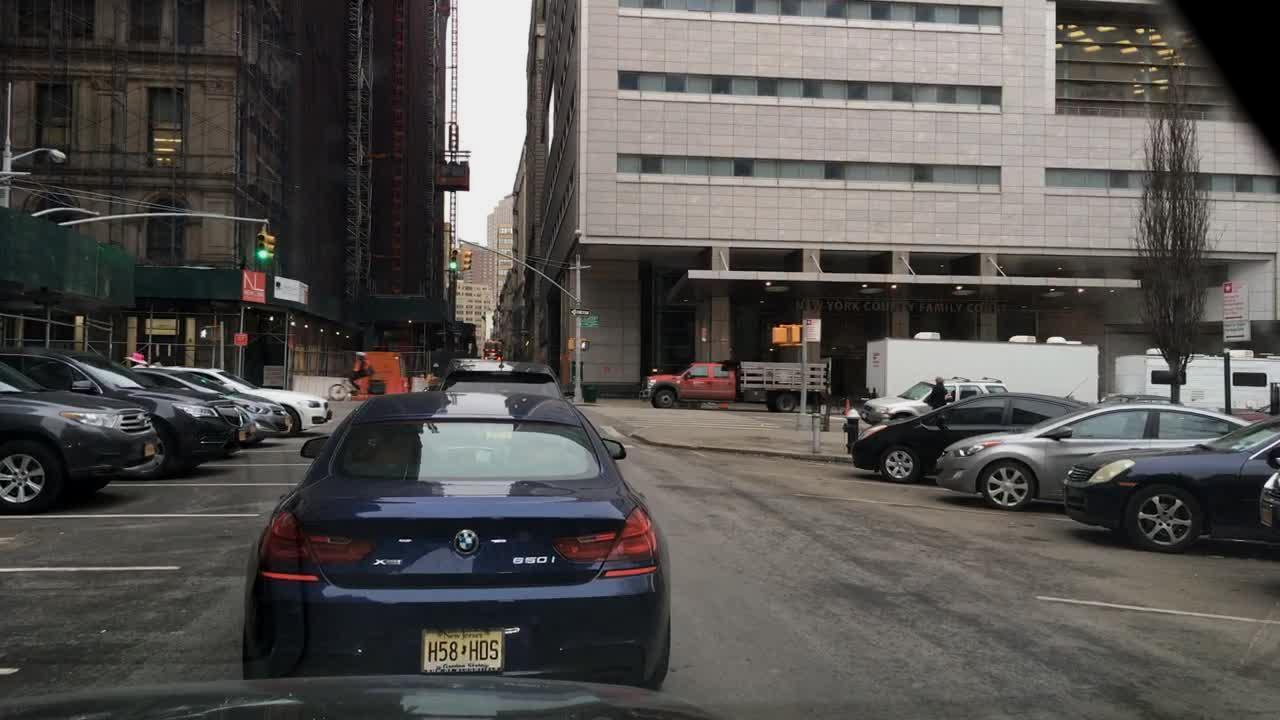bmw: (451, 526, 483, 559)
